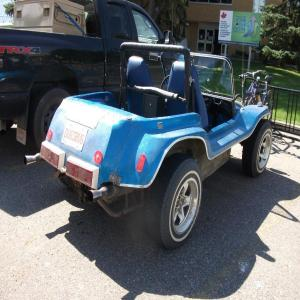Vehicle-registration-plate: (63, 122, 89, 152)
